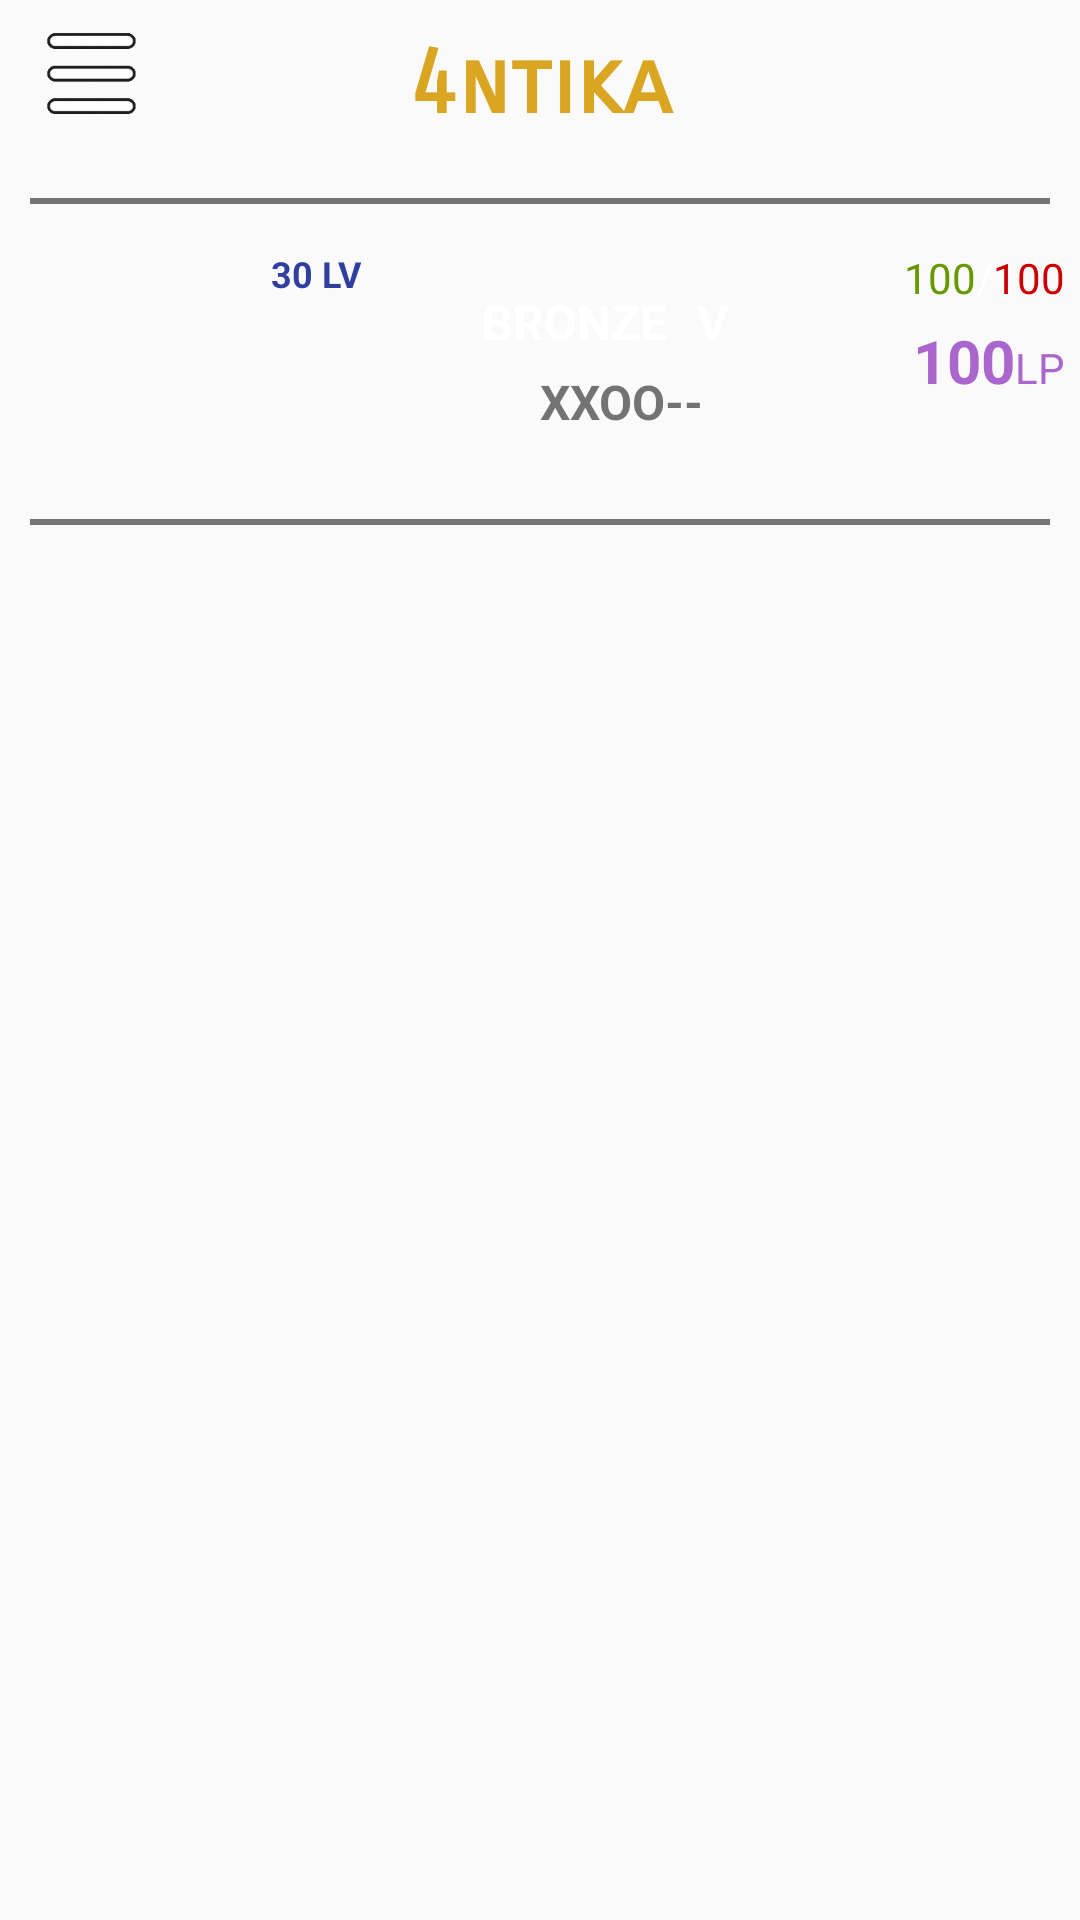

Screen size 1080px x 1920px. Icon name, then its center in pixels as [x,y]:
menu: [91,73]
